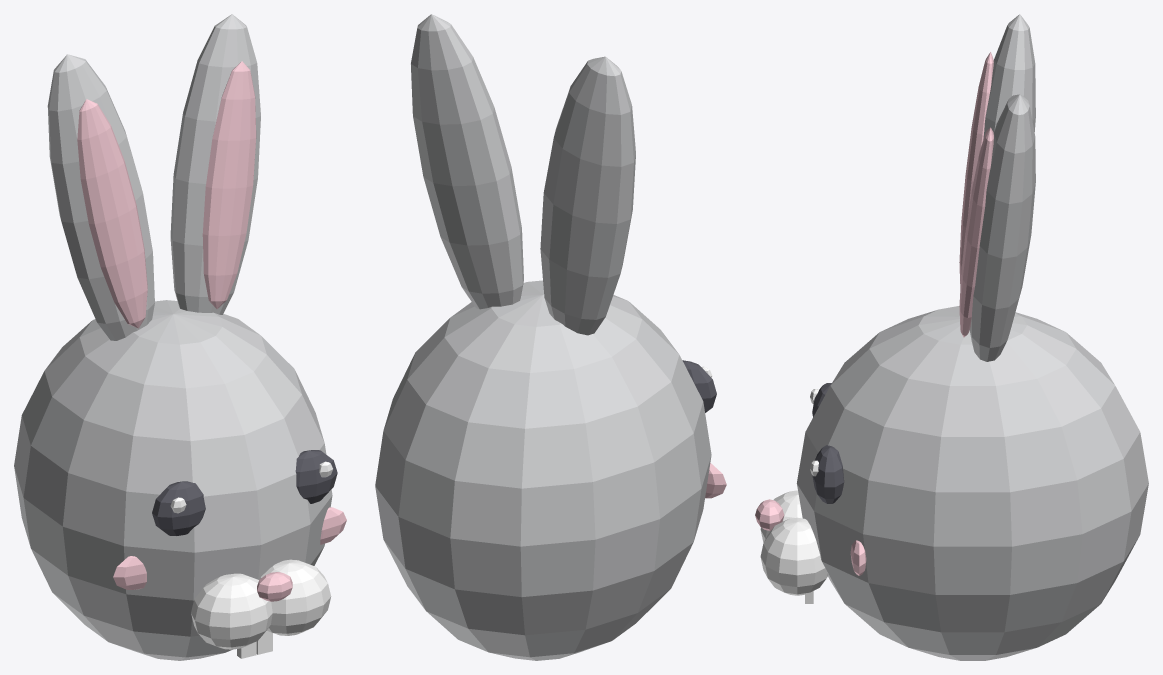
The model's file is k_rabbit.fbx.
3 renders of one model, left to right at view 1: azimuth 30°, elevation 25°; view 2: azimuth 150°, elevation 25°; view 3: azimuth 270°, elevation 25°, orthographic. The views are drawn at different scales.
Visible parts, largest first — view 1: Mask; view 2: Mask; view 3: Mask.
Part boxes in pixels (x1,y1,x2,y2): Mask: (14,14,346,660); Mask: (375,14,726,660); Mask: (755,14,1148,660).
Size of the model in its own units: 0.2047 by 0.4476 by 0.2685.
